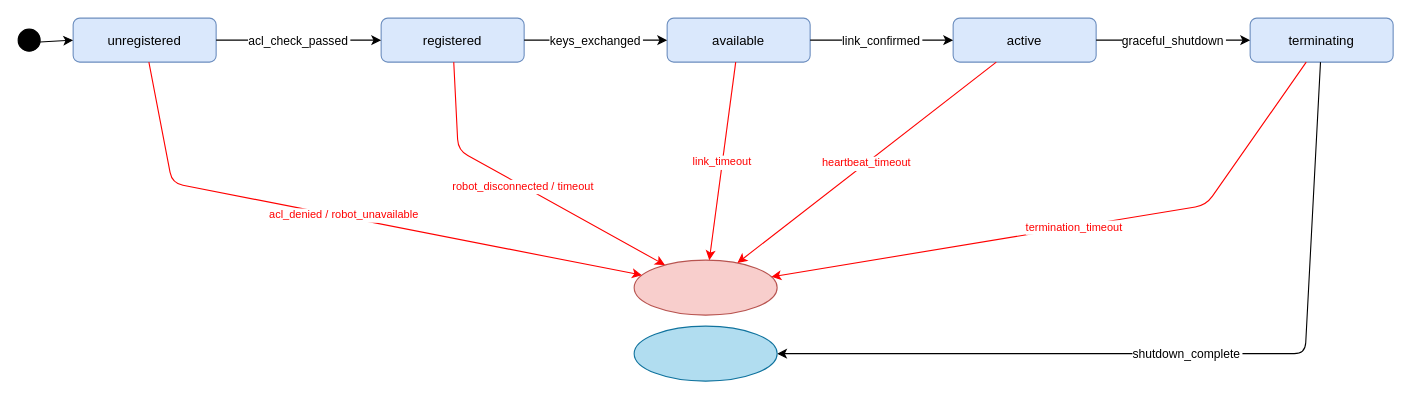
Image size: 1411x399. Some labels were removed from this diagram. Each missing label, with the box of its shape:
terminated failure: (633, 259, 777, 315)
terminated planned: (633, 325, 777, 381)
